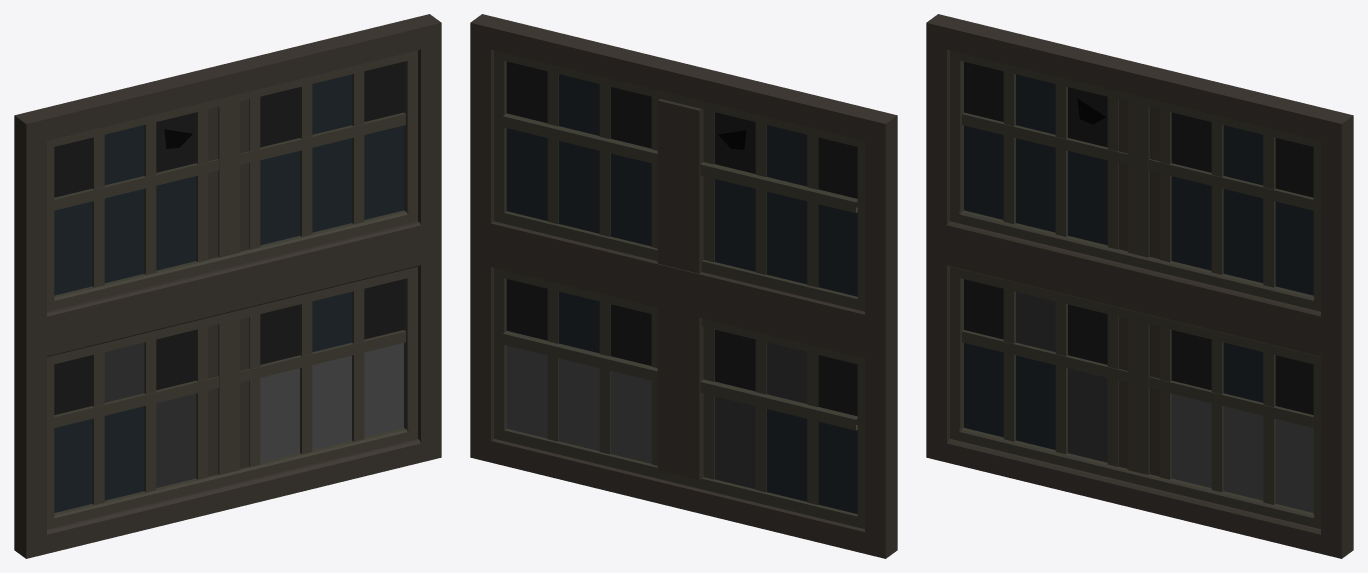
Rendered from front6.fbx.
The picture shows the model from 3 angles, left to right: view 1: azimuth 30°, elevation 25°; view 2: azimuth 150°, elevation 25°; view 3: azimuth 330°, elevation 25°; orthographic projection.
Visible parts, largest first — view 1: Cube.011; view 2: Cube.011; view 3: Cube.011.
Part boxes in pixels (x1=…): Cube.011: x1=14, y1=14, x2=441, y2=558; Cube.011: x1=470, y1=14, x2=897, y2=558; Cube.011: x1=926, y1=14, x2=1353, y2=558.
Bounding box in the file's own units: 400 × 400 × 20.
